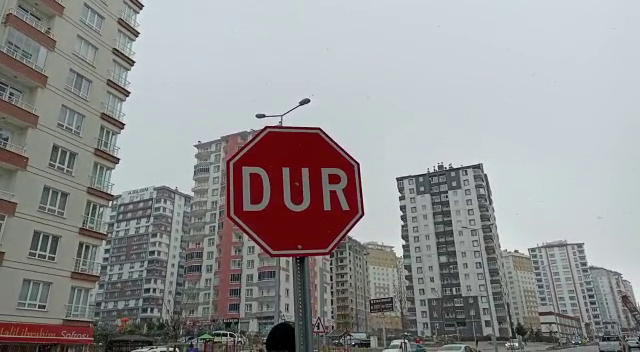stop: (223, 124, 368, 259)
